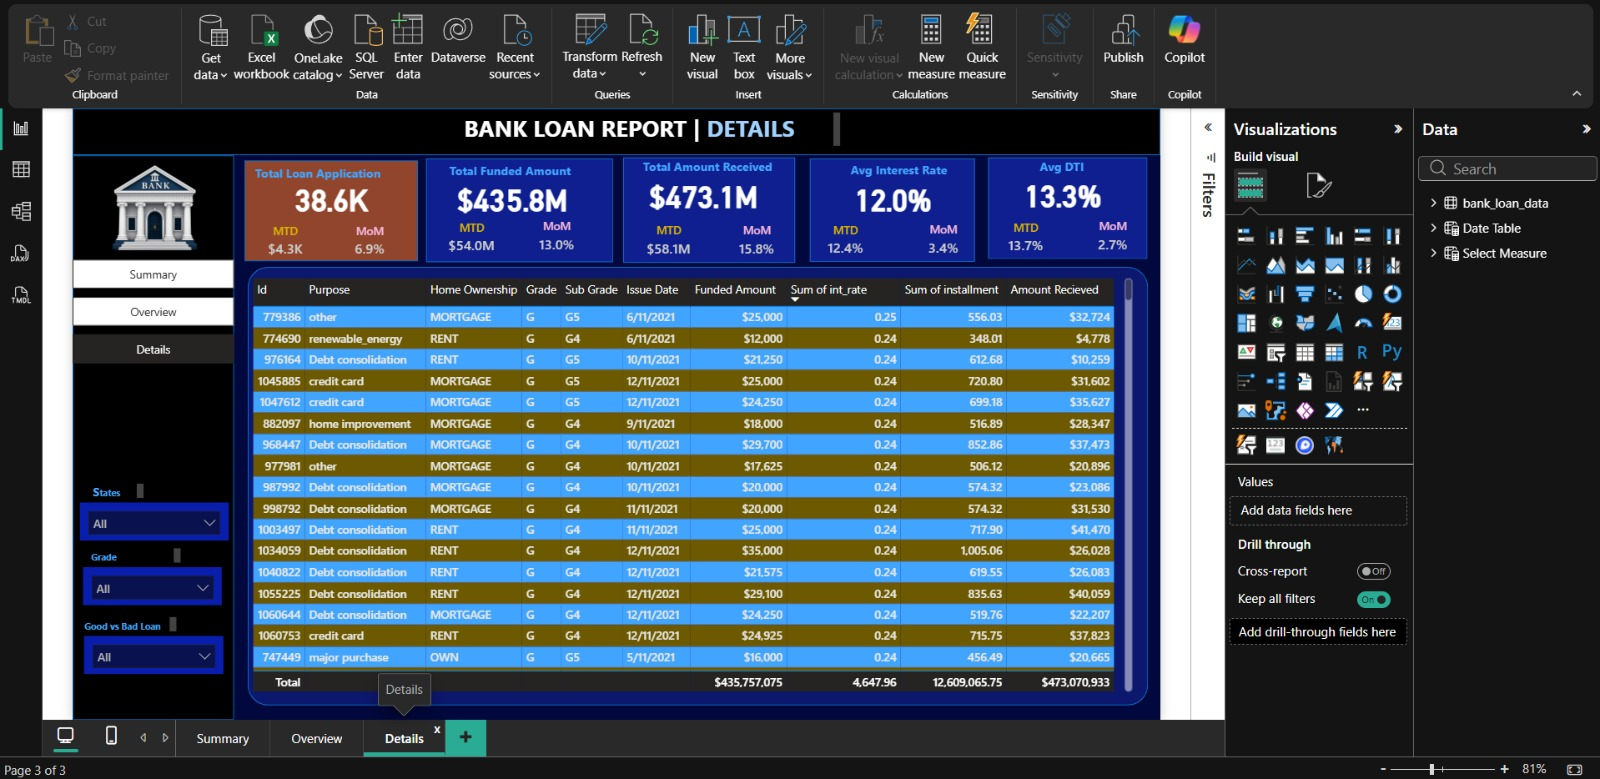

The dashboard page shown, as its layout file describes it:
{"tool":"powerbi","page":{"name":"Details","canvas":[1280,720],"ordinal":2},"visuals":[{"type":"shape","box":[0,0,1280,55],"z":0},{"type":"shape","box":[647.4,57.6,202.4,124],"z":0,"group":"g4"},{"type":"shape","box":[1077.3,57.6,187.5,119.6],"z":0,"group":"g3"},{"type":"shape","box":[867,59.1,194.2,121.7],"z":0,"group":"g5"},{"type":"shape","box":[415.8,59.3,220.3,122.1],"z":0,"group":"g2"},{"type":"shape","box":[202.7,61,204.1,118.5],"z":0,"group":"g1"},{"type":"shape","box":[0,55.4,190,664.3],"z":1000},{"type":"card","fields":{"Values":["bank_loan_data.Avg DTI"]},"box":[1064.7,69.8,200.4,61.4],"z":1000,"group":"g3"},{"type":"card","fields":{"Values":["bank_loan_data.Total Amount Received"]},"box":[633.8,70.4,216.4,63.6],"z":1000,"group":"g4"},{"type":"card","fields":{"Values":["bank_loan_data.Total Funded Amount"]},"box":[400.4,75.1,235.3,60.9],"z":1000,"group":"g2"},{"type":"card","fields":{"Values":["bank_loan_data.Total Loan Applications"]},"box":[187.6,76.2,234.3,58.7],"z":1000,"group":"g1"},{"type":"card","fields":{"Values":["bank_loan_data.Avg Interest Rate"]},"box":[868.5,77,193.3,56.6],"z":1000,"group":"g5"},{"type":"textbox","box":[665.9,53.9,182.8,32.3],"z":2000,"group":"g4"},{"type":"textbox","box":[1094.3,53.9,172.4,31.4],"z":2000,"group":"g3"},{"type":"textbox","box":[906.3,57.5,138.8,29.7],"z":2000,"group":"g5"},{"type":"textbox","box":[430.7,59.3,202.8,31.1],"z":2000,"group":"g2"},{"type":"textbox","box":[209.4,61,180.9,30],"z":2000,"group":"g1"},{"type":"shape","box":[205.6,186.7,1059.4,516.2],"z":2000},{"type":"textbox","box":[14.4,437.1,73.6,26.9],"z":2000,"group":"g6"},{"type":"textbox","box":[13.5,512.5,118.5,26.9],"z":2000,"group":"g7"},{"type":"textbox","box":[8.9,593.4,118.5,26.9],"z":2000,"group":"g8"},{"type":"textbox","box":[455.2,0,453.3,55.4],"z":3000},{"type":"card","title":"MTD","fields":{"Values":["bank_loan_data.MTD Avg DTI"]},"box":[1092.6,130.7,57.3,46.8],"z":3000,"group":"g3"},{"type":"card","title":"MTD","fields":{"Values":["bank_loan_data.MTD Funded Amount"]},"box":[426.9,131.3,85.5,46.3],"z":3000,"group":"g2"},{"type":"card","title":"MTD","fields":{"Values":["bank_loan_data.MTD Total Amount Recieved"]},"box":[661.1,133.1,80.5,49.4],"z":3000,"group":"g4"},{"type":"card","title":"MTD","fields":{"Values":["bank_loan_data.MTD Avg Int Rate"]},"box":[883,134,52.5,47.4],"z":3000,"group":"g5"},{"type":"card","title":"MTD","fields":{"Values":["bank_loan_data.MTD Loan Application"]},"box":[220.4,135,59.2,44.6],"z":3000,"group":"g1"},{"type":"group","id":"g1","title":"Group 1","box":[187.6,61,234.3,118.5],"z":4000},{"type":"card","title":"MoM","fields":{"Values":["bank_loan_data.MoM Total Funded Amount"]},"box":[530.8,128.9,79.5,41.8],"z":4000,"group":"g2"},{"type":"card","title":"MoM","fields":{"Values":["bank_loan_data.MoM Avg DTI"]},"box":[1186.3,129.1,75.4,48.5],"z":4000,"group":"g3"},{"type":"card","title":"MoM","fields":{"Values":["bank_loan_data.MoMAvg Int Rate"]},"box":[992.9,132.7,61.9,48.5],"z":4000,"group":"g5"},{"type":"card","title":"MoM","fields":{"Values":["bank_loan_data.MoM Total Amount Recieved"]},"box":[766,133.1,76.8,49.4],"z":4000,"group":"g4"},{"type":"card","title":"MoM","fields":{"Values":["bank_loan_data.MoM Loan Application"]},"box":[319.9,135,59.2,44.6],"z":4000,"group":"g1"},{"type":"group","id":"g2","title":"Group 1","box":[400.4,59.3,233.4,122.1],"z":5000},{"type":"group","id":"g3","title":"Group 1","box":[1064.7,53.9,202,123.9],"z":6000},{"type":"group","id":"g4","title":"Group 1","box":[633.8,53.9,216.4,128.4],"z":7000},{"type":"group","id":"g5","title":"Group 1","box":[867,57.5,194.8,123.9],"z":8000},{"type":"slicer","fields":{"Values":["bank_loan_data.address_state"]},"box":[9,463.2,175.1,44.9],"z":9000},{"type":"group","id":"g6","title":"Group 1","box":[14.4,437.1,73.6,26.9],"z":10000},{"type":"slicer","fields":{"Values":["bank_loan_data.grade"]},"box":[12.6,540.4,163.4,44.9],"z":11000},{"type":"group","id":"g7","title":"Group 1","box":[13.5,512.5,118.5,26.9],"z":12000},{"type":"slicer","fields":{"Values":["bank_loan_data.Good Vs Bad Loan"]},"box":[13.5,620.3,164.3,44.9],"z":13000},{"type":"group","id":"g8","title":"Group 1","box":[8.9,593.4,118.5,26.9],"z":14000},{"type":"tableEx","fields":{"Values":["bank_loan_data.id","bank_loan_data.purpose","bank_loan_data.home_ownership","bank_loan_data.grade","bank_loan_data.sub_grade","bank_loan_data.issue_date","bank_loan_data.Total Funded Amount","Sum(bank_loan_data.int_rate)","Sum(bank_loan_data.installment)","bank_loan_data.Total Amount Recieved"]},"box":[205.6,194.8,1045.9,496.5],"z":15000},{"type":"image","box":[24.2,61,144.5,107.7],"z":16000},{"type":"pageNavigator","box":[0,177.8,190.3,122.1],"z":17000}]}

Visuals, with their boxes on the page's 1280x720 design canvas (x1, y1, x2, y2). These are canvas units, not pixel positions in the 1600x779 screenshot, which may show the page scaled, cropped or inside an application window:
shape: 0 0 1280 55
shape: 647 58 850 182
shape: 1077 58 1265 177
shape: 867 59 1061 181
shape: 416 59 636 181
shape: 203 61 407 180
shape: 0 55 190 720
card - bank_loan_data.Avg DTI: 1065 70 1265 131
card - bank_loan_data.Total Amount Received: 634 70 850 134
card - bank_loan_data.Total Funded Amount: 400 75 636 136
card - bank_loan_data.Total Loan Applications: 188 76 422 135
card - bank_loan_data.Avg Interest Rate: 868 77 1062 134
textbox: 666 54 849 86
textbox: 1094 54 1267 85
textbox: 906 58 1045 87
textbox: 431 59 634 90
textbox: 209 61 390 91
shape: 206 187 1265 703
textbox: 14 437 88 464
textbox: 14 512 132 539
textbox: 9 593 127 620
textbox: 455 0 908 55
"MTD" card: 1093 131 1150 178
"MTD" card: 427 131 512 178
"MTD" card: 661 133 742 182
"MTD" card: 883 134 936 181
"MTD" card: 220 135 280 180
"Group 1" group: 188 61 422 180
"MoM" card: 531 129 610 171
"MoM" card: 1186 129 1262 178
"MoM" card: 993 133 1055 181
"MoM" card: 766 133 843 182
"MoM" card: 320 135 379 180
"Group 1" group: 400 59 634 181
"Group 1" group: 1065 54 1267 178
"Group 1" group: 634 54 850 182
"Group 1" group: 867 58 1062 181
slicer - bank_loan_data.address_state: 9 463 184 508
"Group 1" group: 14 437 88 464
slicer - bank_loan_data.grade: 13 540 176 585
"Group 1" group: 14 512 132 539
slicer - bank_loan_data.Good Vs Bad Loan: 14 620 178 665
"Group 1" group: 9 593 127 620
tableEx - bank_loan_data.id x bank_loan_data.purpose: 206 195 1252 691
image: 24 61 169 169
pageNavigator: 0 178 190 300
